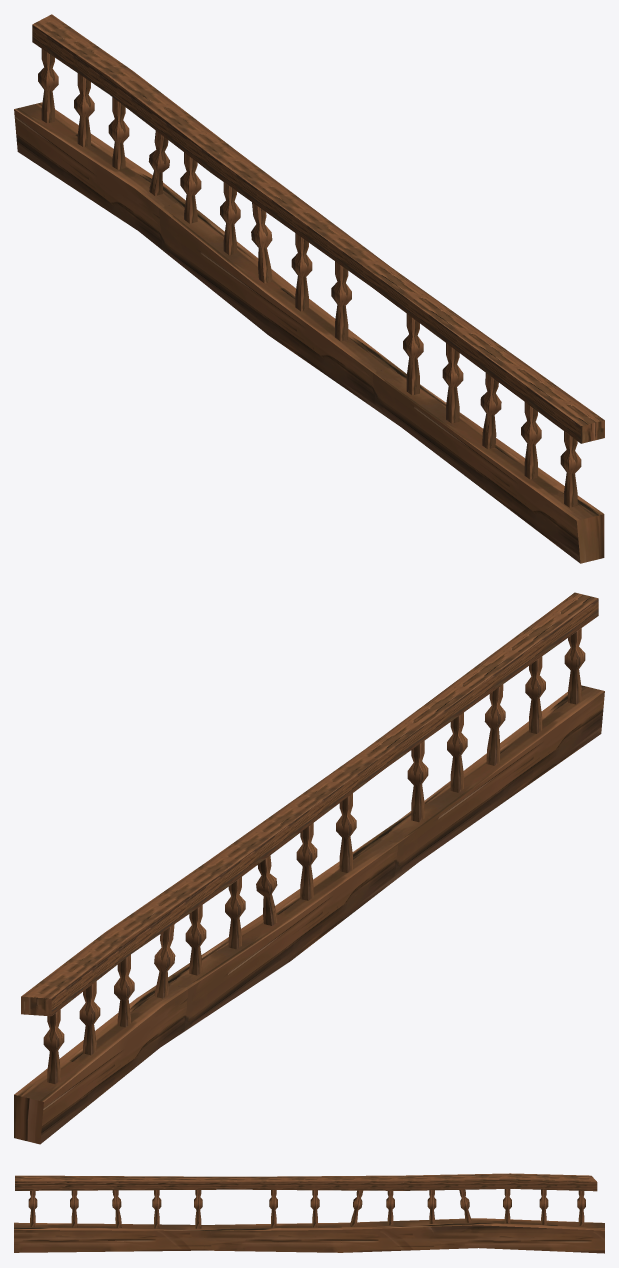
Rendered from Railing.fbx.
The picture shows the model from 3 angles, top to bottom: view 1: azimuth 30°, elevation 25°; view 2: azimuth 150°, elevation 25°; view 3: azimuth 270°, elevation 25°; orthographic projection. The views are drawn at different scales.
Visible parts, largest first — view 1: 1_Railing; view 2: 1_Railing; view 3: 1_Railing.
Part boxes in pixels (x1,y1,x2,y2): 1_Railing: (14, 14, 604, 563); 1_Railing: (14, 592, 604, 1144); 1_Railing: (14, 1173, 604, 1253).
Size of the model in its own units: 24.77 by 109 by 791.
